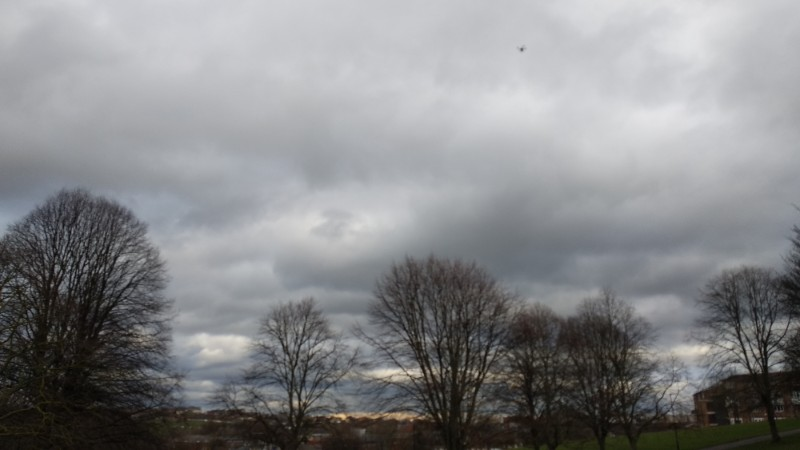drone: (515, 44, 528, 54)
